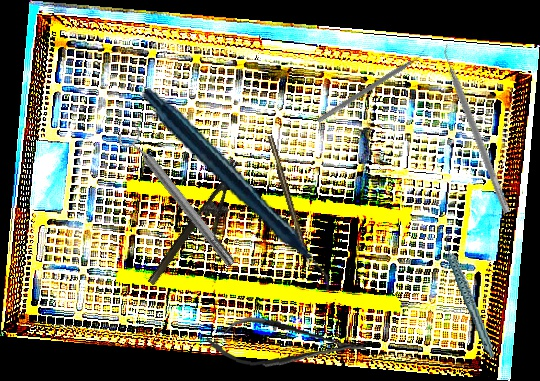Fixation Ring: (114, 121, 242, 274)
Handpiece: (140, 66, 333, 316), (442, 228, 496, 363)
Hook Surgical: (266, 134, 313, 272)
Micro Scissor: (205, 313, 369, 375)
Needle Holder: (146, 159, 258, 298)
Spatula Surgical: (436, 42, 519, 214), (316, 49, 430, 128)
